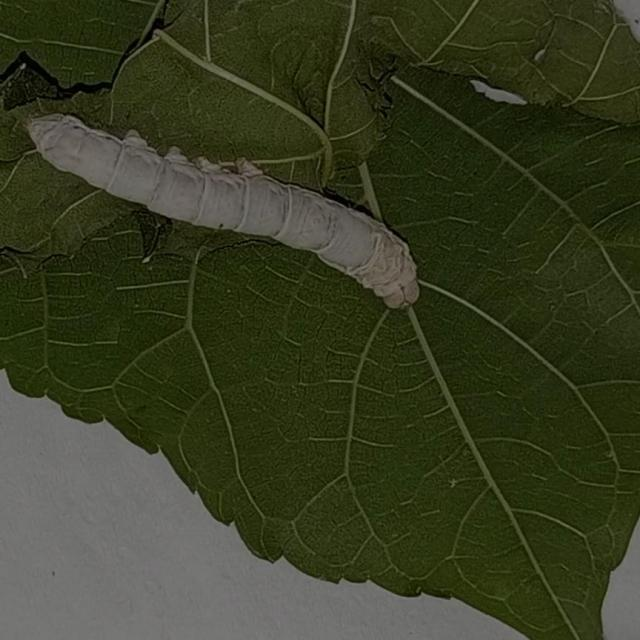Healthy: (21, 89, 426, 326)
